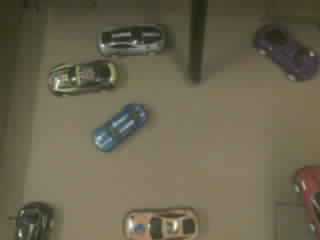Car: (254, 24, 319, 79), (94, 104, 147, 151), (124, 208, 198, 239), (48, 61, 116, 94), (98, 24, 165, 55), (294, 166, 319, 233), (17, 202, 52, 239)
